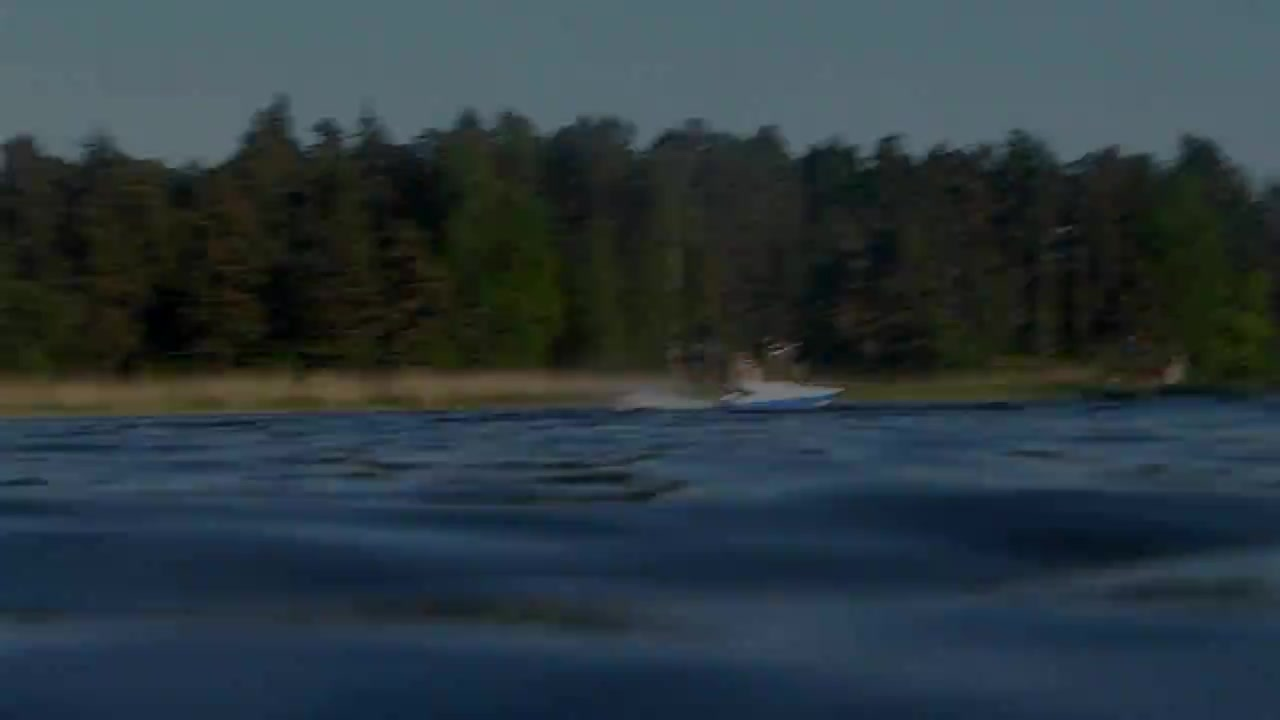boat: (720, 368, 849, 412)
